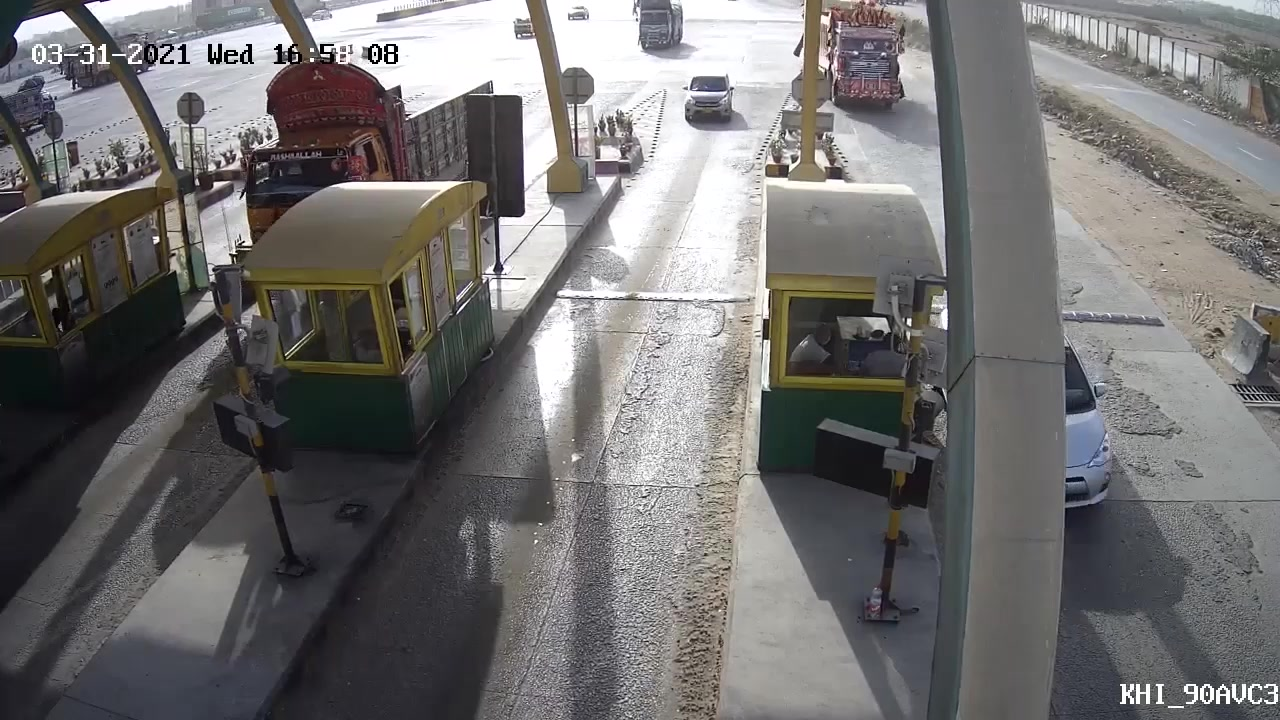F1: (676, 68, 742, 129)
